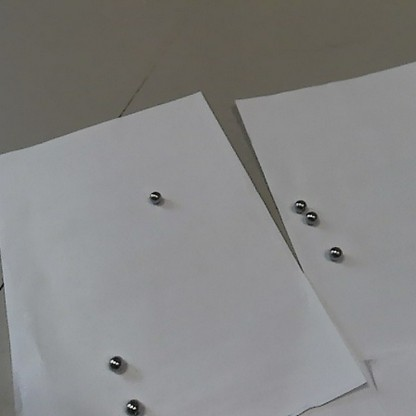ironball: (106, 353, 125, 376), (123, 396, 146, 414), (327, 245, 341, 261), (148, 189, 163, 203), (292, 198, 306, 213), (303, 210, 317, 224)
